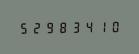eight: (56, 20, 68, 34)
five: (17, 20, 29, 34)
four: (82, 19, 94, 33)
nine: (43, 20, 55, 34)
one: (95, 19, 107, 33)
three: (69, 20, 81, 33)
two: (30, 20, 42, 34)
zero: (108, 19, 120, 33)
